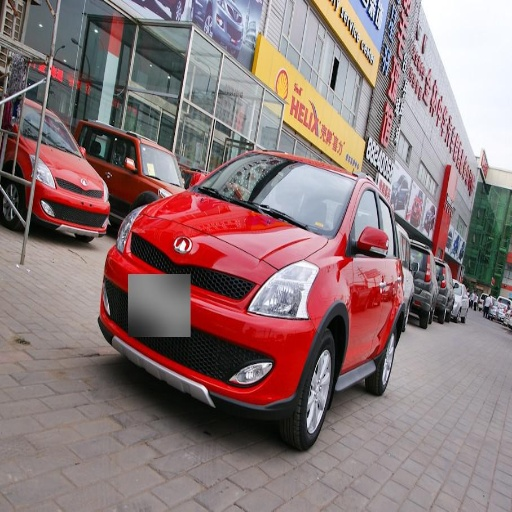back_left_door: (379, 194, 402, 335)
front_bumper: (161, 253, 316, 411)
front_glass: (197, 155, 355, 237)
front_left_door: (349, 182, 389, 365)
trunk: (121, 258, 185, 341)
